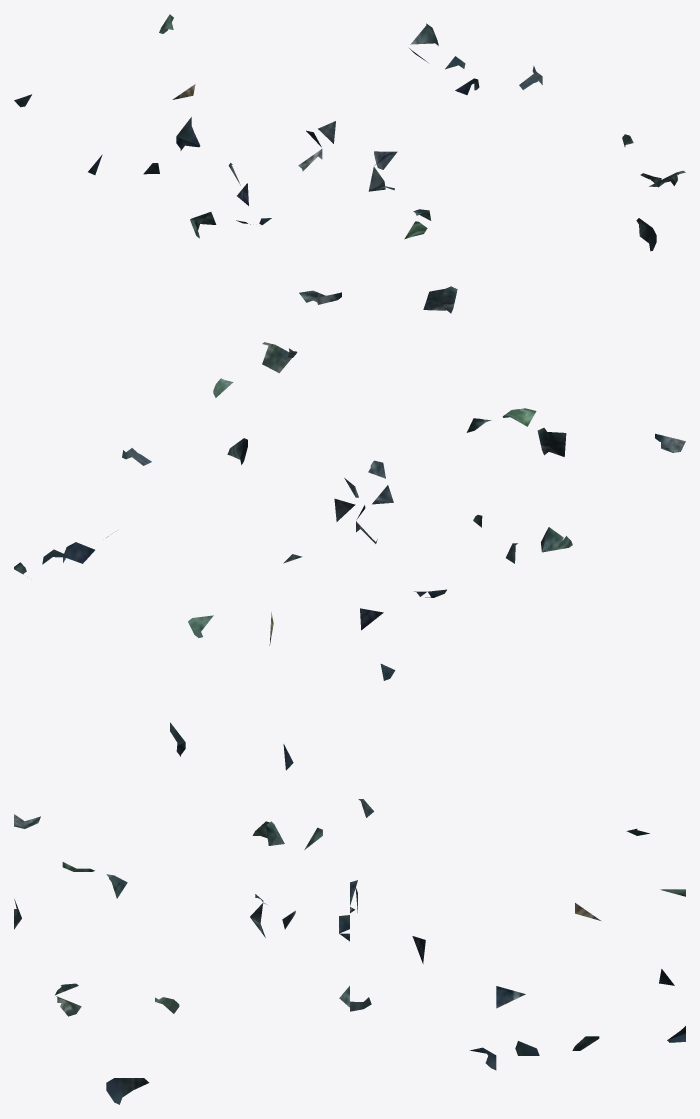
The picture shows the model from 3 angles, top to bottom: view 1: azimuth 30°, elevation 25°; view 2: azimuth 150°, elevation 25°; view 3: azimuth 270°, elevation 25°; orthographic projection. The views are drawn at different scales.
Visible parts, largest first — view 1: 30436272704361514430_1; view 2: 30436272704361514430_1; view 3: 30436272704361514430_1.
Part boxes in pixels (bbox=[...]): 30436272704361514430_1: bbox=[14, 14, 685, 313]; 30436272704361514430_1: bbox=[14, 342, 685, 770]; 30436272704361514430_1: bbox=[14, 799, 685, 1104].
Bounding box in the file's own units: 27.78 × 9.71 × 38.26.
1 material, 1 textured.
